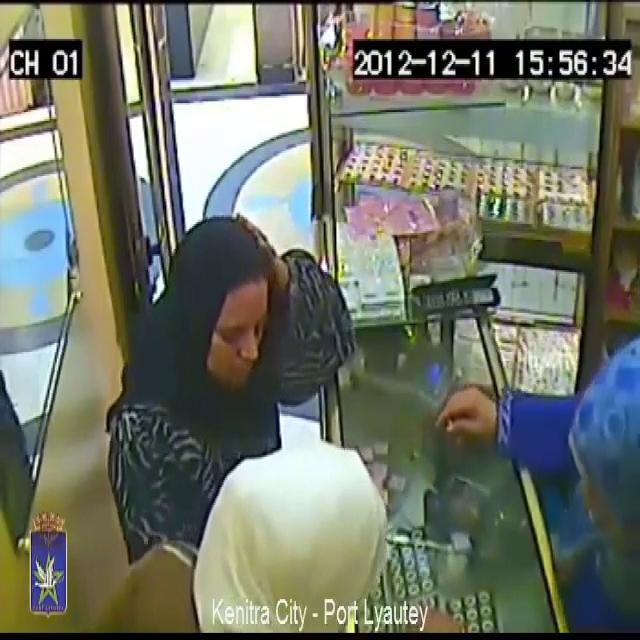Product: (448, 388, 464, 434)
normal: (159, 399, 391, 640), (173, 185, 290, 402)
shoplifting: (421, 182, 640, 627)
